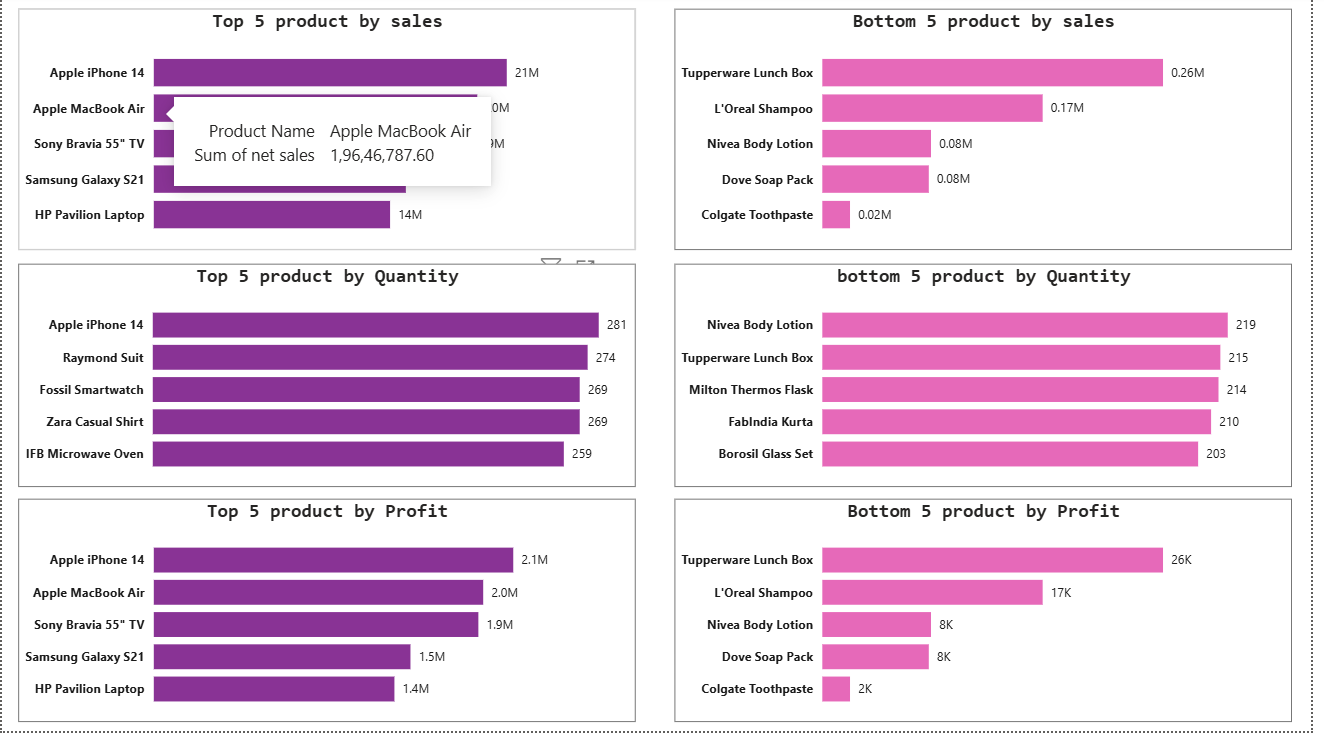

Layout of this report page (visuals, bound fields, positions):
{"tool":"powerbi","page":{"name":"Top/Bottom 5 analysis","canvas":[1280,720],"ordinal":1},"visuals":[{"type":"barChart","title":"Top 5 product by sales","fields":{"Category":["Dim Product.Product Name"],"Y":["Sum(Fact table.net sales  )"]},"box":[16.5,13.7,603.8,236],"z":0},{"type":"barChart","title":"Bottom 5 product by sales","fields":{"Category":["Dim Product.Product Name"],"Y":["Sum(Fact table.net sales  )"]},"box":[657.3,13.7,603.8,236],"z":1000},{"type":"barChart","title":"Top 5 product by Quantity","fields":{"Category":["Dim Product.Product Name"],"Y":["Sum(Fact table.Units Sold)"]},"box":[16.5,263.5,603.8,218.2],"z":2000},{"type":"barChart","title":"bottom 5 product by Quantity","fields":{"Category":["Dim Product.Product Name"],"Y":["Sum(Fact table.Units Sold)"]},"box":[657.3,263.5,603.8,218.2],"z":3000},{"type":"barChart","title":"Top 5 product by Profit","fields":{"Category":["Dim Product.Product Name"],"Y":["Sum(Fact table.profit)"]},"box":[16.5,492.6,603.8,218.2],"z":4000},{"type":"barChart","title":"Bottom 5 product by Profit","fields":{"Category":["Dim Product.Product Name"],"Y":["Sum(Fact table.profit)"]},"box":[657.3,492.6,603.8,218.2],"z":5000}]}

Visuals, with their boxes in screenshot pixels (x1, y1, x2, y2), scaled from the page's 1280x720 canvas onto the 1324x733 screenshot:
"Top 5 product by sales" barChart: bbox(17, 14, 642, 254)
"Bottom 5 product by sales" barChart: bbox(680, 14, 1304, 254)
"Top 5 product by Quantity" barChart: bbox(17, 268, 642, 490)
"bottom 5 product by Quantity" barChart: bbox(680, 268, 1304, 490)
"Top 5 product by Profit" barChart: bbox(17, 501, 642, 724)
"Bottom 5 product by Profit" barChart: bbox(680, 501, 1304, 724)
